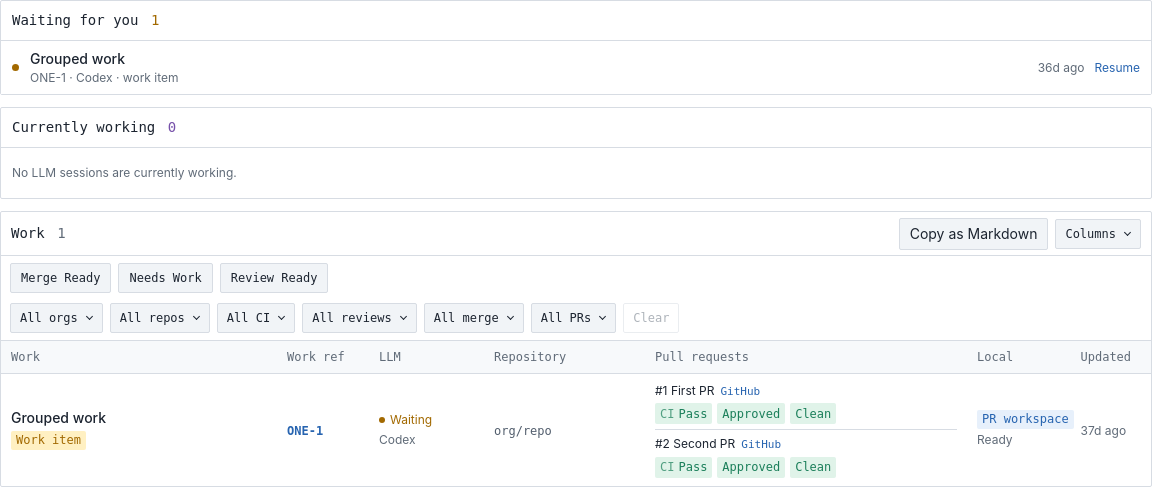
Test case: returns an acknowledged waiting session to idle
The width and height of the screenshot is (1152, 504).
Expected: the text "Waiting" is shown, [379,412,432,426]
Click the link "Grouped work ONE-1 · Codex · work item 36d ago Resume".
click(78, 58)  # box [1,41,1151,94]
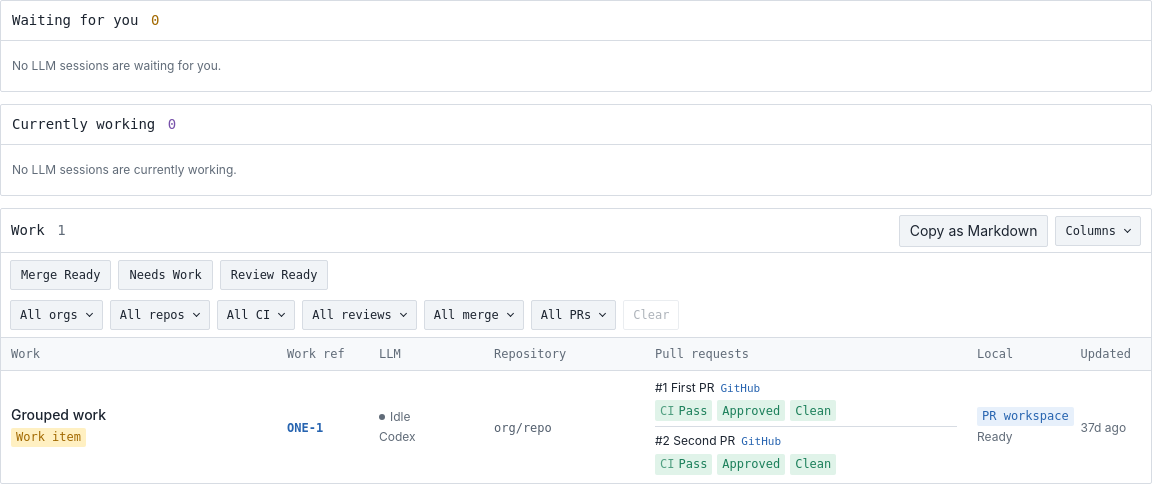
Now the text "Idle" is shown, box [379,408,410,424]
